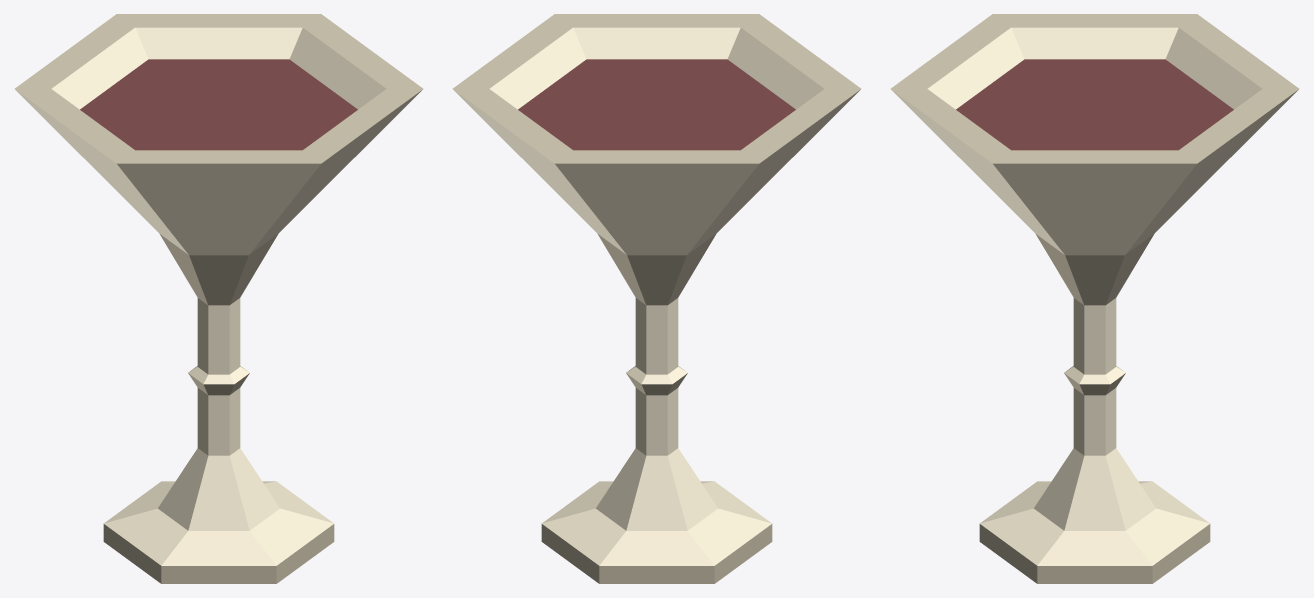
File: Chalice_01.glb
3 renders of one model, left to right at view 1: azimuth 30°, elevation 25°; view 2: azimuth 150°, elevation 25°; view 3: azimuth 270°, elevation 25°, orthographic.
Visible parts, largest first — view 1: Chalice_01; view 2: Chalice_01; view 3: Chalice_01.
Part boxes in pixels (left/top/right/bottom): Chalice_01: left=14, top=14, right=423, bottom=583; Chalice_01: left=452, top=14, right=861, bottom=583; Chalice_01: left=890, top=14, right=1299, bottom=583.
Size of what is drawn, in the model's own units: 0.0901 by 0.1271 by 0.1041.
Materials: 1 (1 with a texture image).
